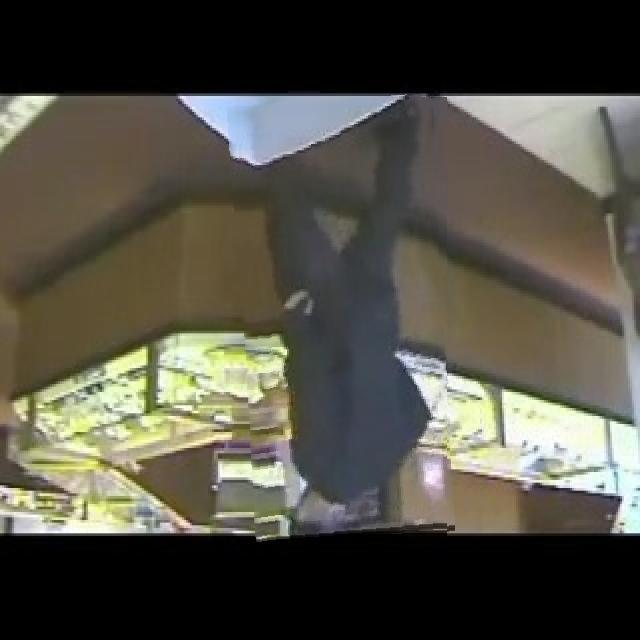Normal: (234, 97, 448, 542)
